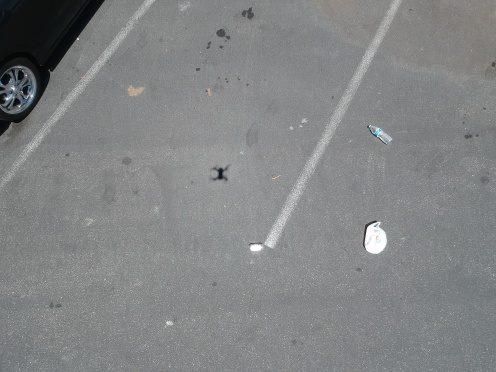bottle: (361, 118, 396, 147)
can: (245, 239, 268, 255)
plastic bag: (356, 216, 393, 258)
